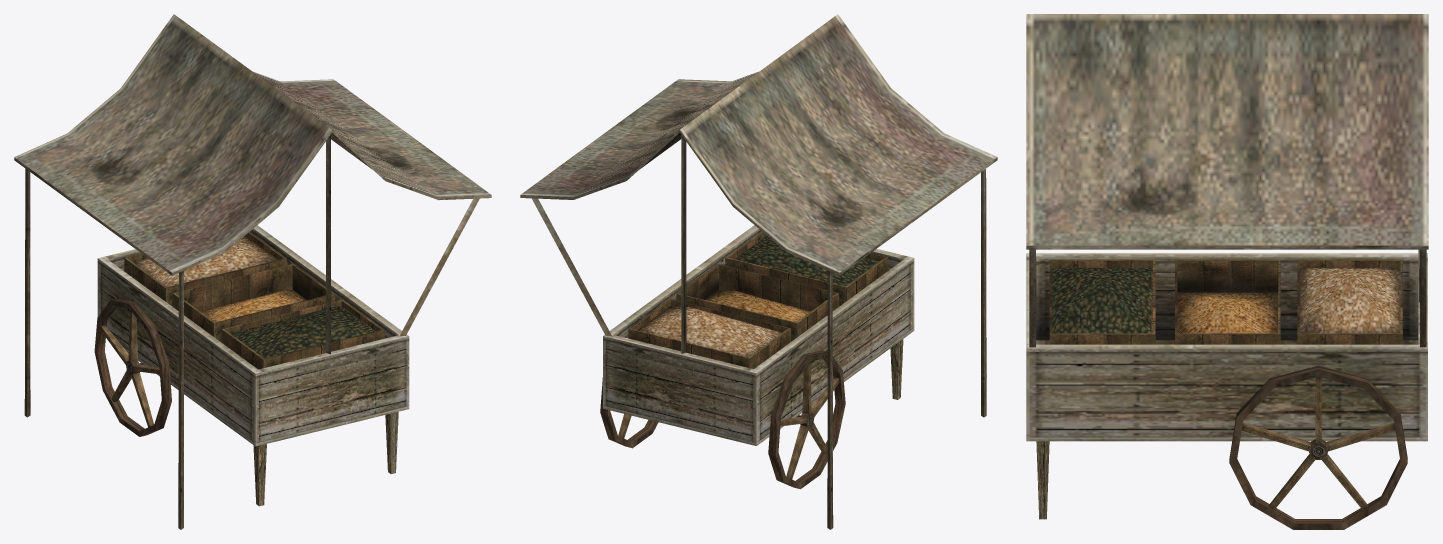
File: vndcrt.glb
The picture shows the model from 3 angles, left to right: view 1: azimuth 30°, elevation 25°; view 2: azimuth 150°, elevation 25°; view 3: azimuth 270°, elevation 25°; orthographic projection. The views are drawn at different scales.
Parts seen in each view (by area): view 1: _vndcrt; view 2: _vndcrt; view 3: _vndcrt.
Boxes of the visible parts, x1=… form: _vndcrt: x1=14, y1=14, x2=491, y2=529; _vndcrt: x1=520, y1=14, x2=997, y2=529; _vndcrt: x1=1026, y1=14, x2=1428, y2=529.
Size of the model in its own units: 2.81 by 3.07 by 2.41.
1 material, 1 textured.
